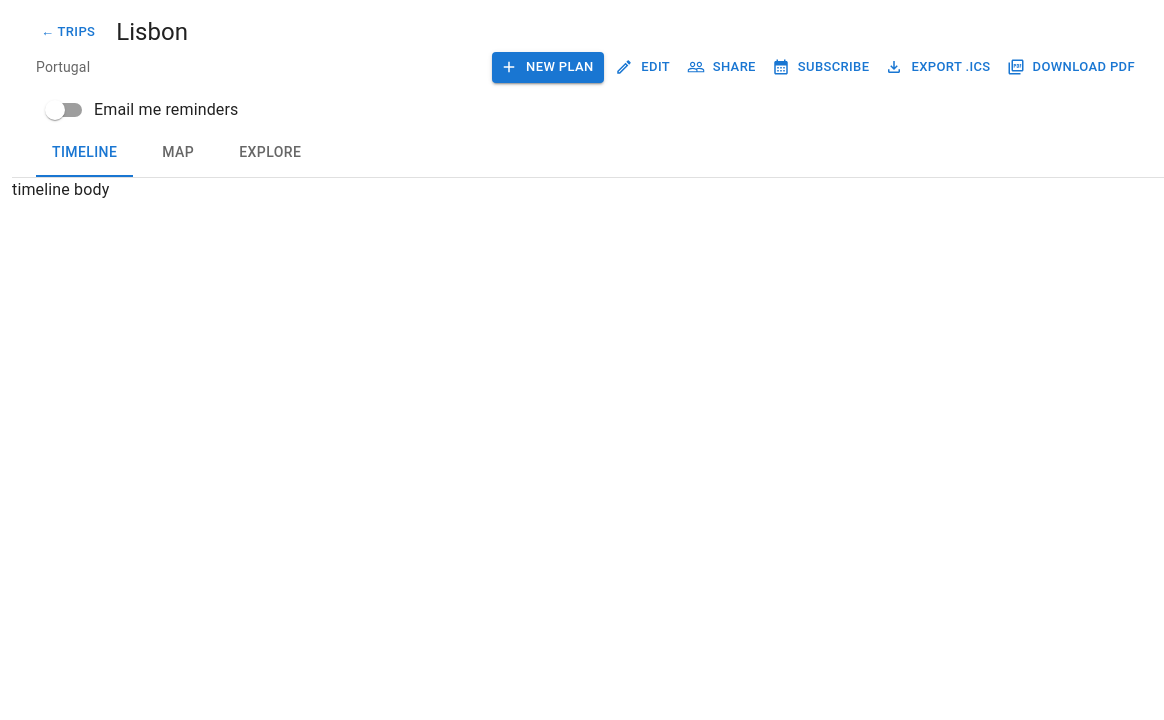
TripDetail › dismisses the export error alert via its close button
Click the button "Export .ics": (939, 67) [882, 52, 996, 83]
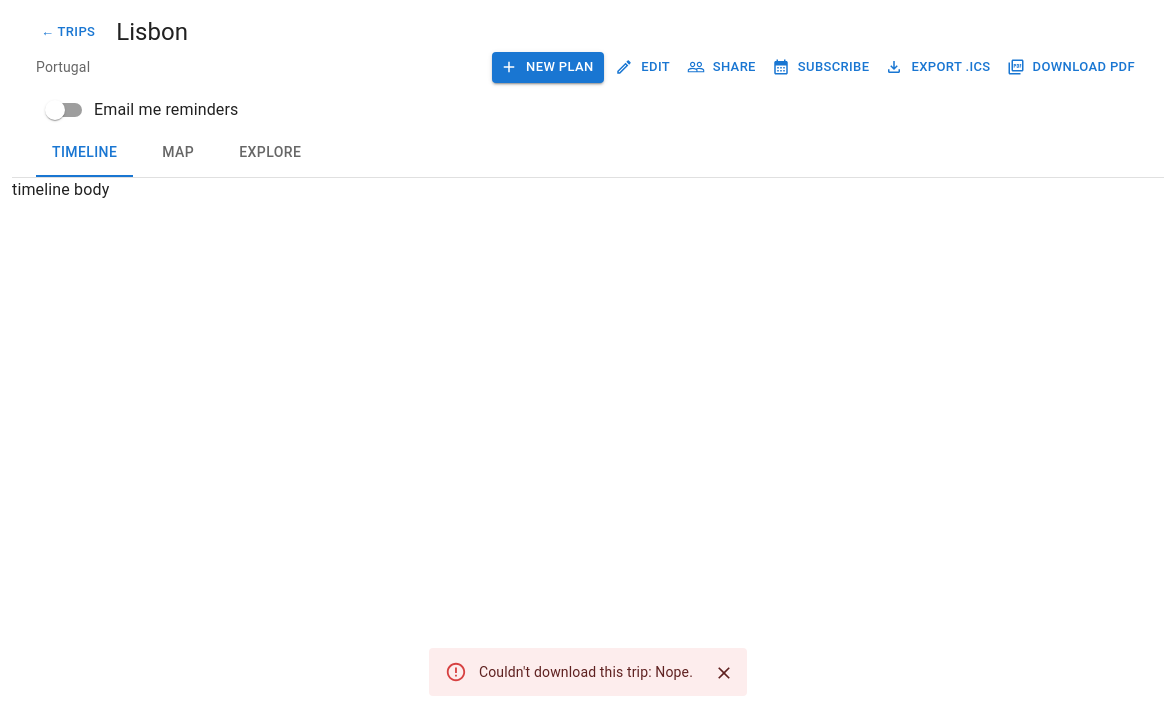
Result: the text "Couldn't download this trip: Nope." is shown at [479, 664, 693, 680]
Click the button named "close": (724, 673) [709, 658, 739, 688]
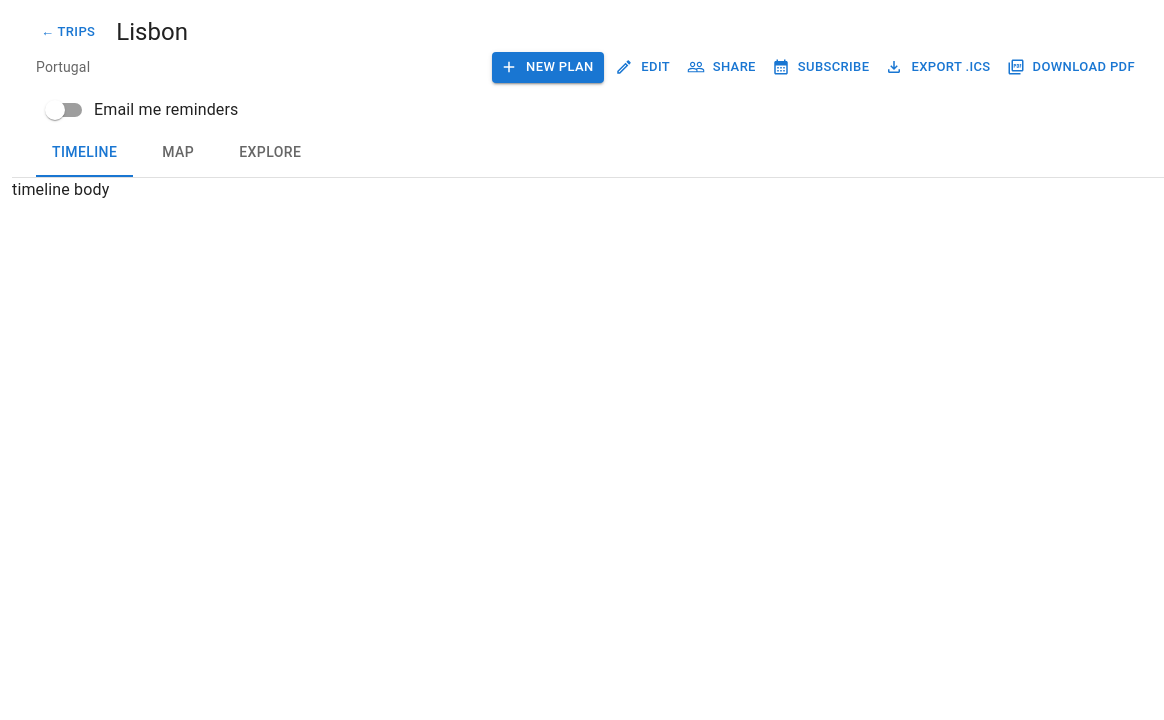
Result: the text "Couldn't download this trip: Nope" is gone
